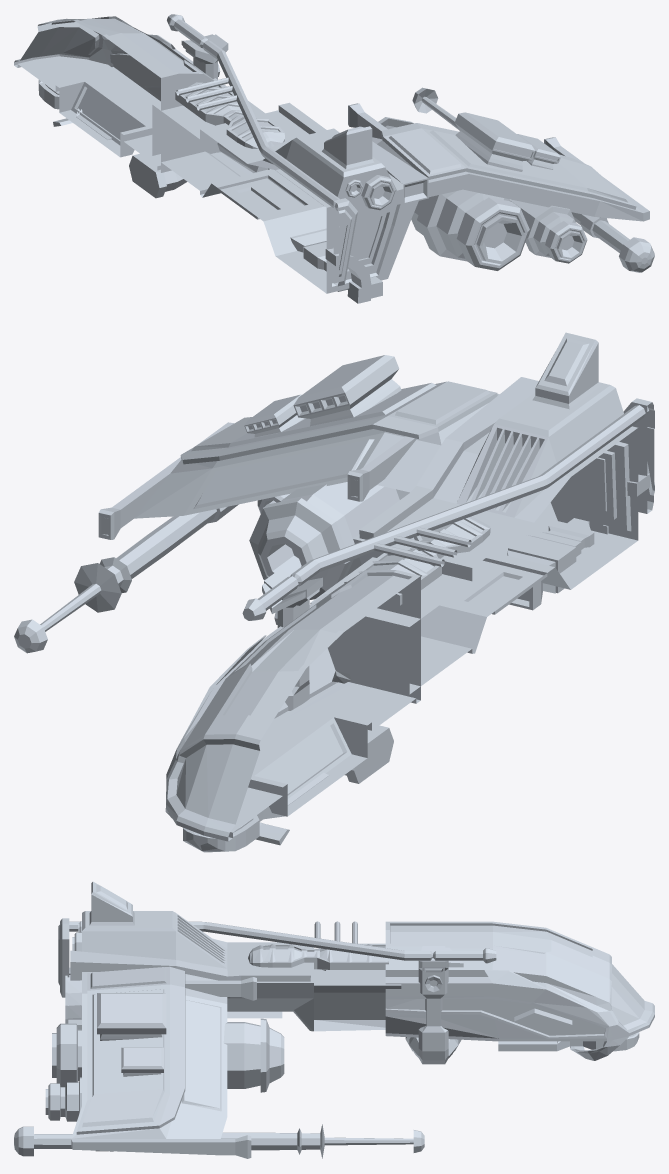
The model's file is spaceship-01.dae.
3 renders of one model, top to bottom at view 1: azimuth 30°, elevation 25°; view 2: azimuth 150°, elevation 25°; view 3: azimuth 270°, elevation 25°, orthographic. The views are drawn at different scales.
Parts seen in each view (by area): view 1: Circle; view 2: Circle; view 3: Circle.
Boxes of the visible parts, x1,y1,x2,y2 form: Circle: (14,14,654,303); Circle: (14,332,654,852); Circle: (14,881,654,1158).
Size of what is drawn, in the model's own units: 6.31 by 11.96 by 3.59.
